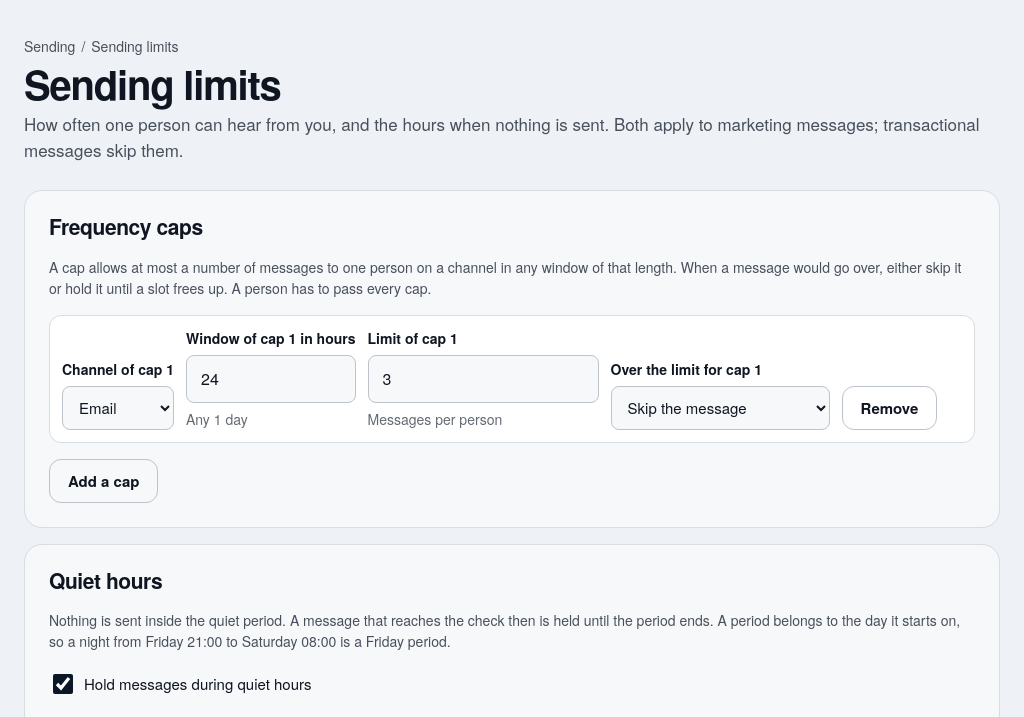
it: sending limits › keeps the saved notice when the save reloads the settings it stored
Replace the text in the number field labelled "Limit of cap 1" with "5" at (483, 379), box [368,355,598,403]
(page scrolled)
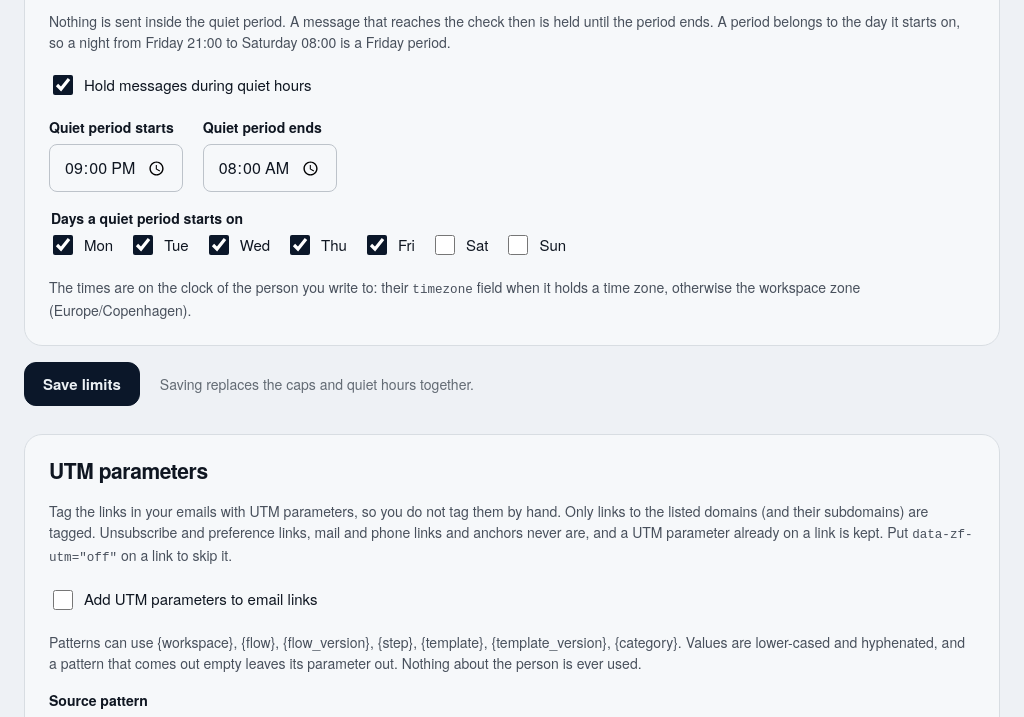
Click the button "Save limits" at (82, 384), box [24,362,140,406]
(page scrolled)
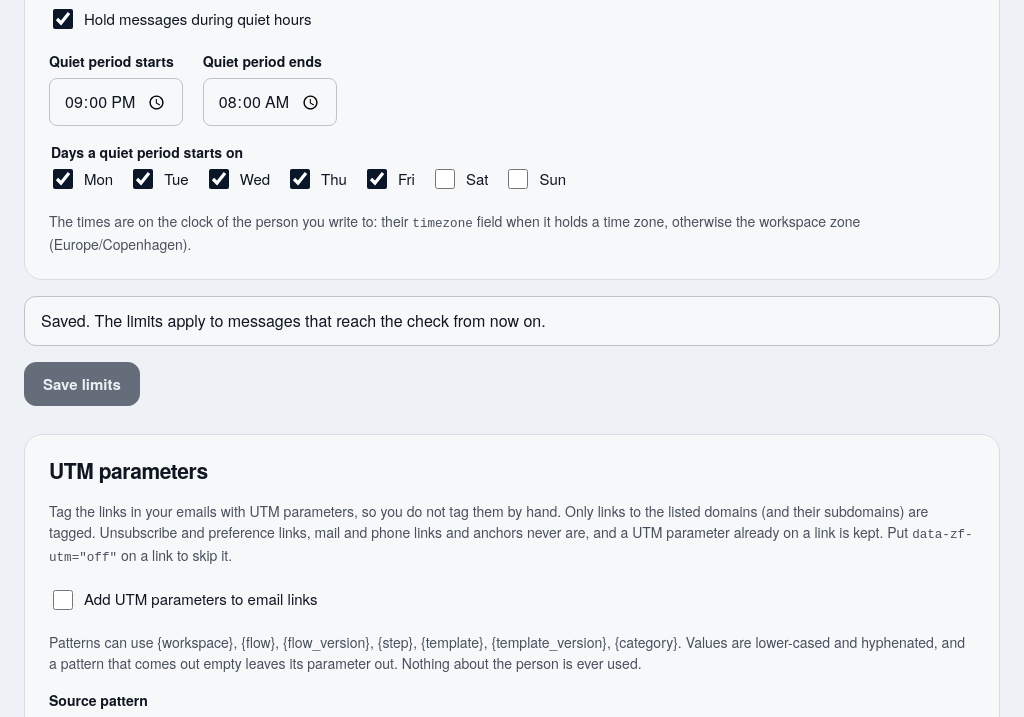
Result: the text "Saved. The limits apply to messages that reach the check from now on." is shown at [24,296,1000,346]
